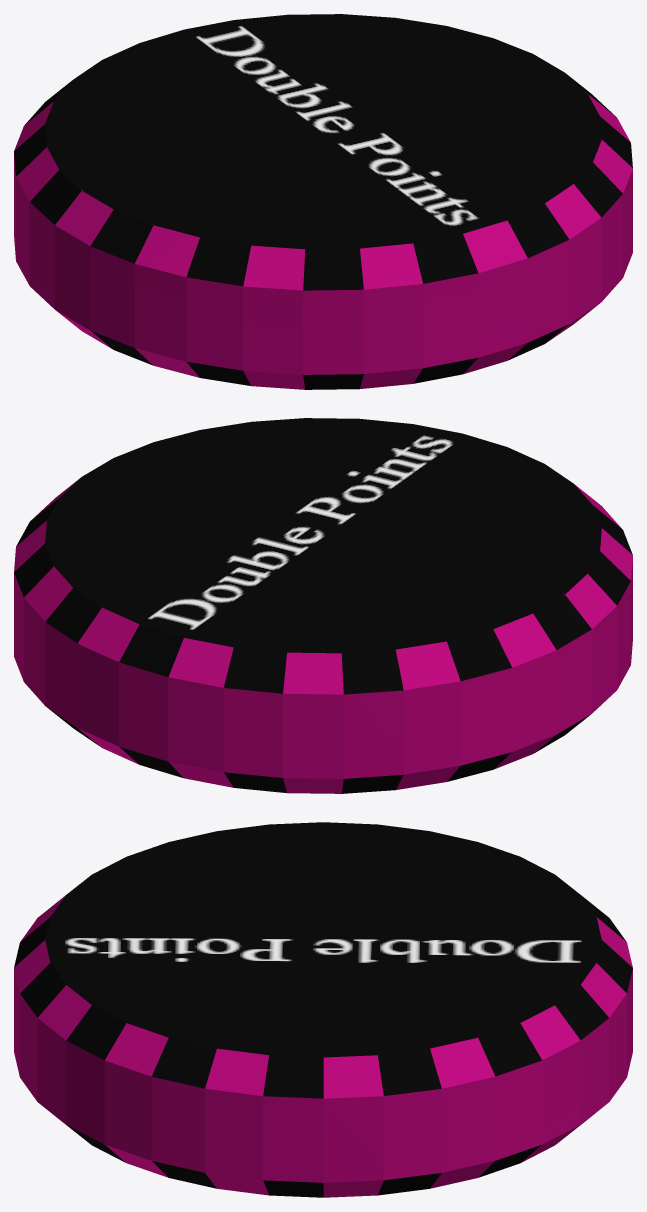
The model's file is Double_Points.fbx.
The picture shows the model from 3 angles, top to bottom: view 1: azimuth 30°, elevation 25°; view 2: azimuth 150°, elevation 25°; view 3: azimuth 270°, elevation 25°; orthographic projection.
Visible parts, largest first — view 1: Cylinder; view 2: Cylinder; view 3: Cylinder.
Boxes of the visible parts, box(x1,y1,x2,y2) form: Cylinder: box(14, 14, 632, 389); Cylinder: box(14, 418, 632, 793); Cylinder: box(14, 822, 632, 1197).
Size of the model in its own units: 200 by 50 by 200.
1 material, 1 textured.
